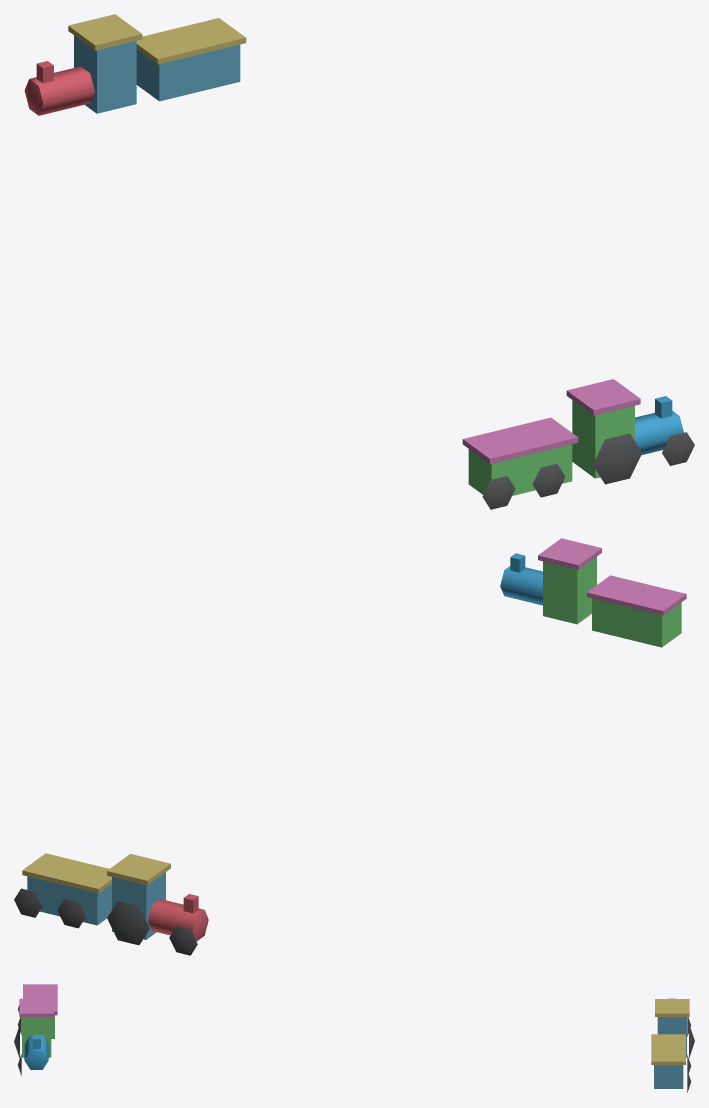
The model's file is stk_toy_train.glb.
3 renders of one model, top to bottom at view 1: azimuth 30°, elevation 25°; view 2: azimuth 150°, elevation 25°; view 3: azimuth 270°, elevation 25°, orthographic. The views are drawn at different scales.
Visible parts, largest first — view 1: toy_train; view 2: toy_train; view 3: toy_train.
Boxes of the visible parts, x1,y1,x2,y2 form: toy_train: (24, 14, 694, 509); toy_train: (14, 538, 686, 955); toy_train: (14, 984, 694, 1092).
Bounding box in the file's own units: 1.5 × 0.4189 × 5.22.
